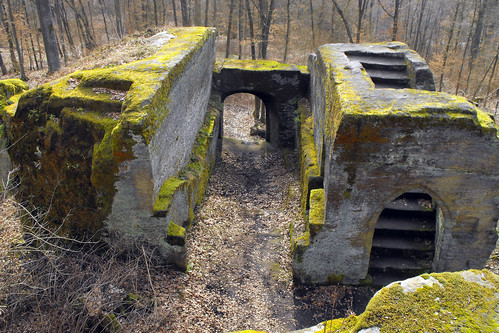building: (12, 32, 491, 279)
vegetation: (22, 1, 499, 81)
